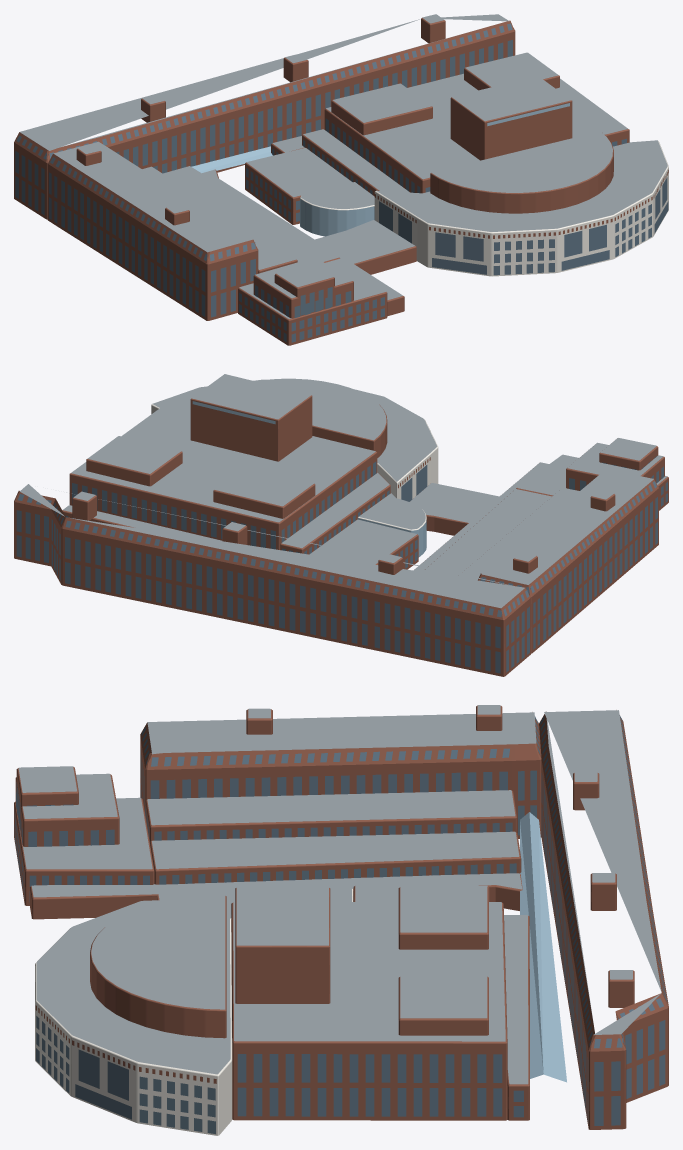
File: amsterdam-stopera.glb
The picture shows the model from 3 angles, top to bottom: view 1: azimuth 30°, elevation 25°; view 2: azimuth 150°, elevation 25°; view 3: azimuth 270°, elevation 25°; orthographic projection. The views are drawn at different scales.
Parts seen in each view (by area): view 1: Stopera; view 2: Stopera; view 3: Stopera.
Boxes of the visible parts, box(x1,y1,x2,y2) form: Stopera: box(14, 14, 668, 345); Stopera: box(14, 374, 668, 676); Stopera: box(14, 705, 668, 1135).
Size of the model in its own units: 181 by 34 by 148.
